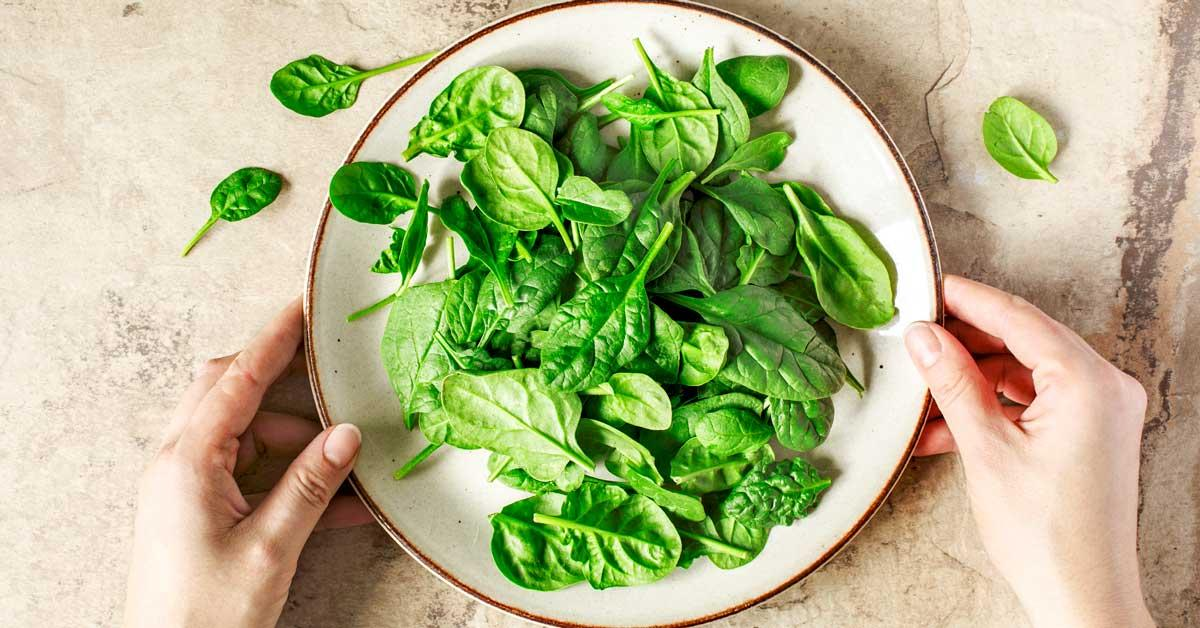spinach: (326, 37, 898, 592)
